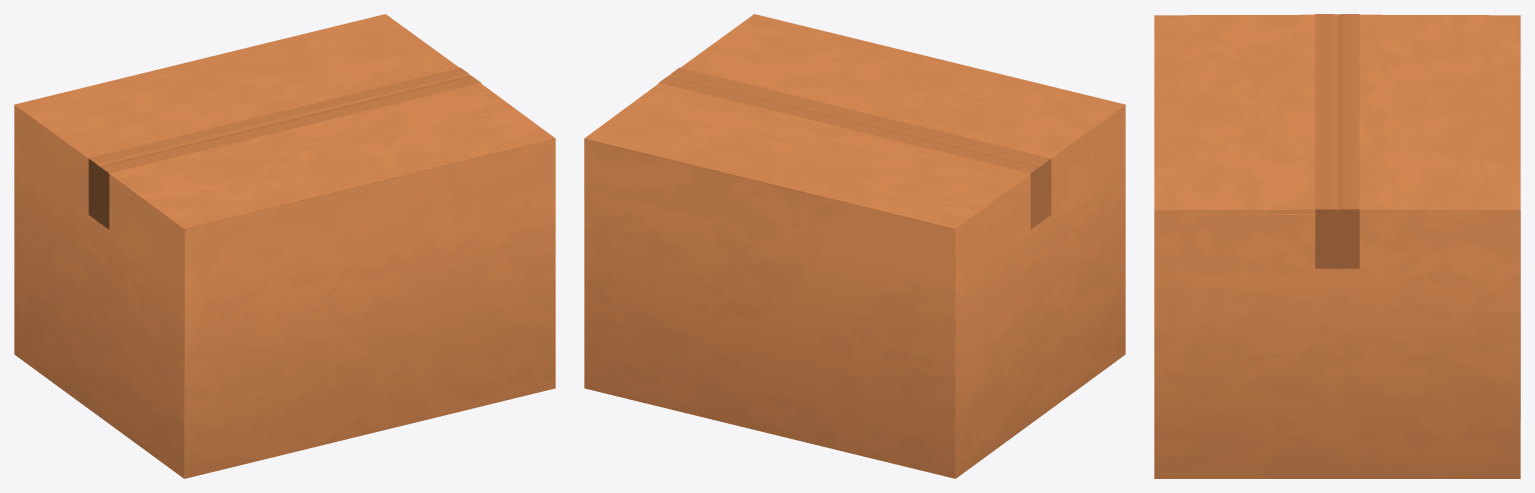
Rendered from boxnew.glb.
The picture shows the model from 3 angles, left to right: view 1: azimuth 30°, elevation 25°; view 2: azimuth 150°, elevation 25°; view 3: azimuth 270°, elevation 25°; orthographic projection. The views are drawn at different scales.
Parts seen in each view (by area): view 1: Noise, Tape; view 2: Noise, Tape; view 3: Noise, Tape.
Part boxes in pixels (x1,y1,x2,y2): Noise: (14, 14, 555, 478); Tape: (88, 67, 481, 229); Noise: (584, 14, 1125, 478); Tape: (659, 67, 1051, 229); Noise: (1154, 14, 1520, 478); Tape: (1315, 14, 1359, 268).
Size of the model in its own units: 2.52 by 1.63 by 2.
2 materials, 1 textured.
